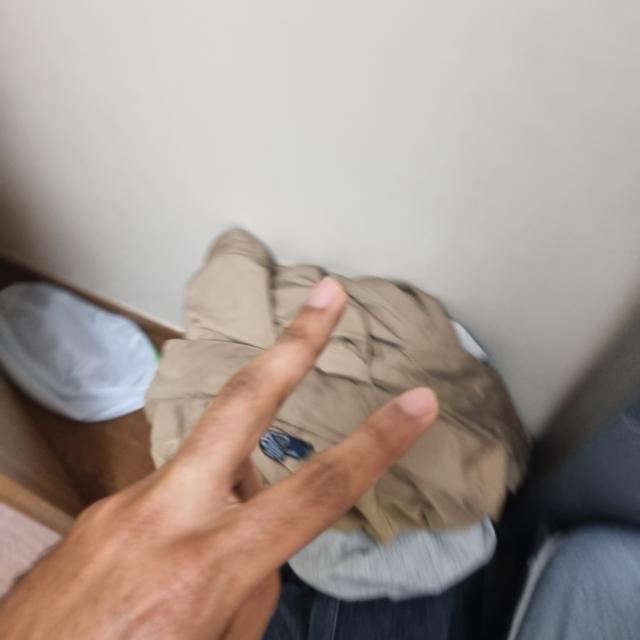Scissors: (0, 281, 434, 639)
